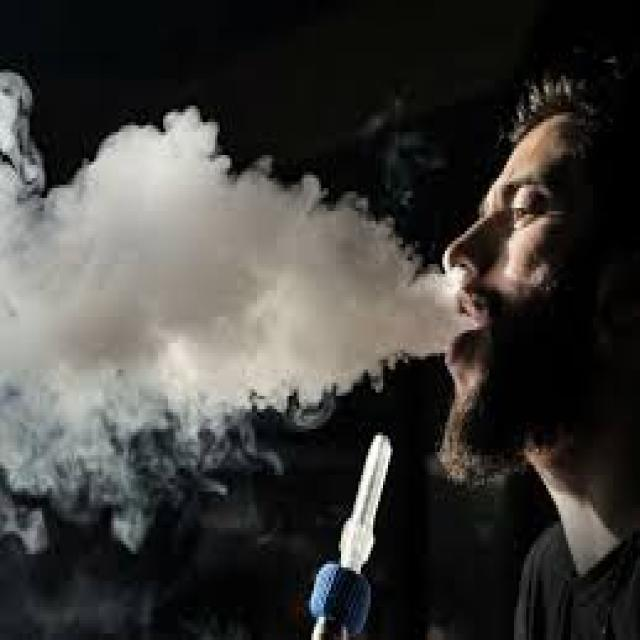Smoke: (0, 70, 482, 558)
